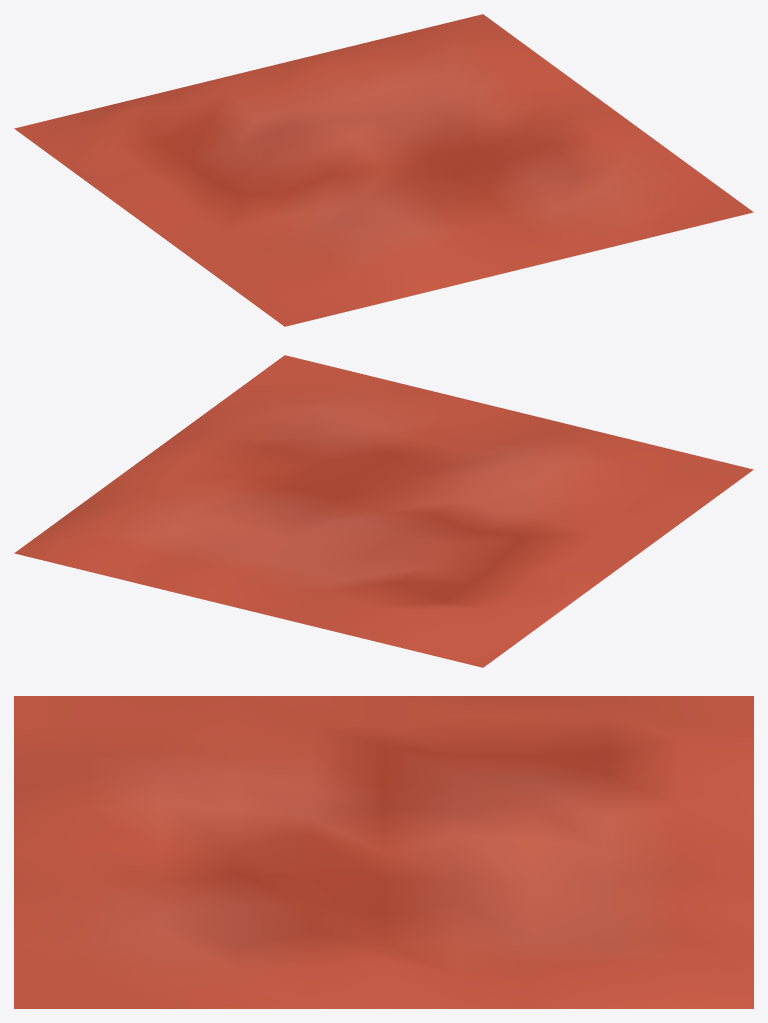
File: GroundPlane.FBX
3 views of the same model, one above another, from view 1: azimuth 30°, elevation 25°; view 2: azimuth 150°, elevation 25°; view 3: azimuth 270°, elevation 25° (orthographic). The views are drawn at different scales.
Visible parts, largest first — view 1: Groundplane_1; view 2: Groundplane_1; view 3: Groundplane_1.
Part boxes in pixels (bbox=[...]): Groundplane_1: bbox=[14, 14, 753, 326]; Groundplane_1: bbox=[14, 355, 753, 667]; Groundplane_1: bbox=[14, 696, 753, 1008].
Size of the model in its own units: 100 by 3.38 by 100.
